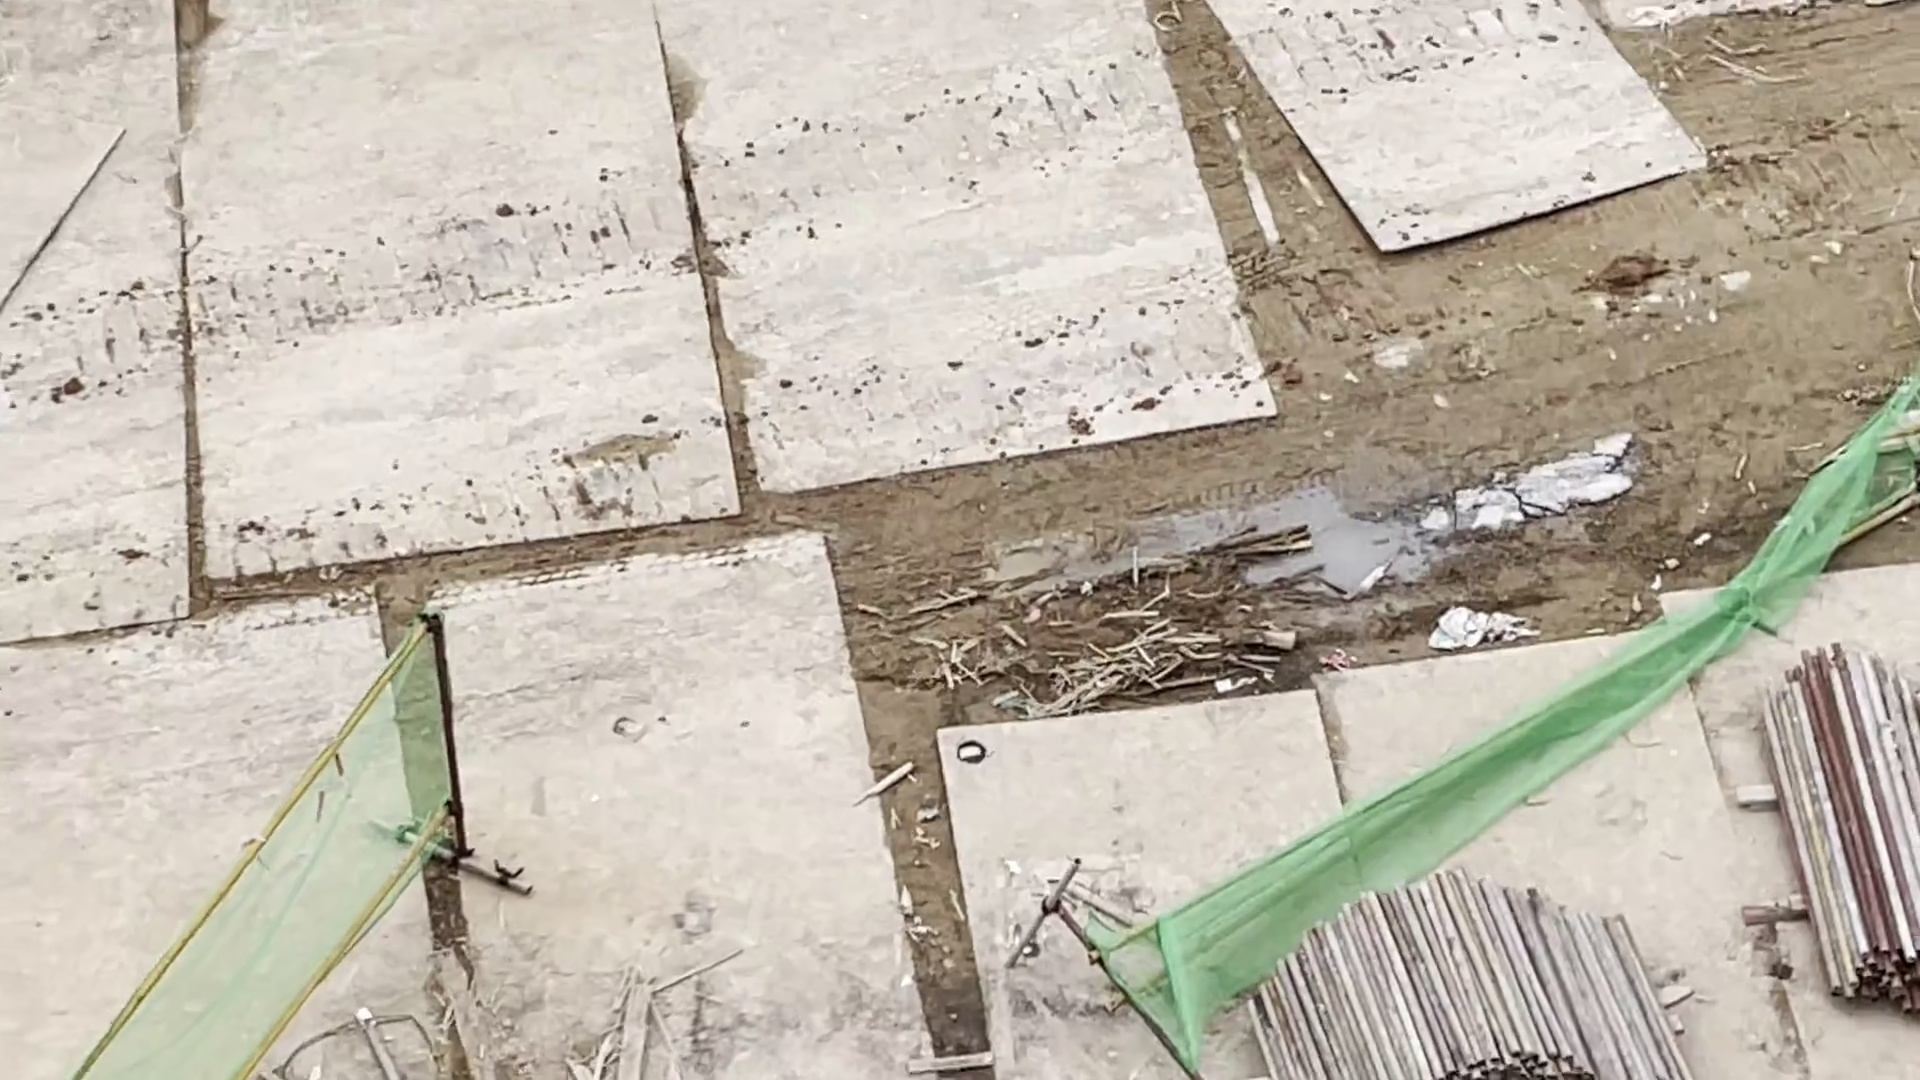wood: (1232, 864, 1695, 1080), (1763, 638, 1920, 1013)
